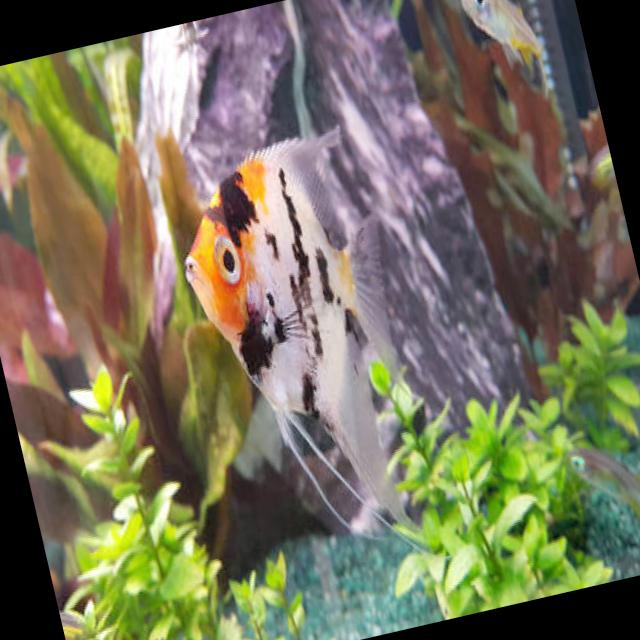AngelFish: (160, 122, 454, 590)
